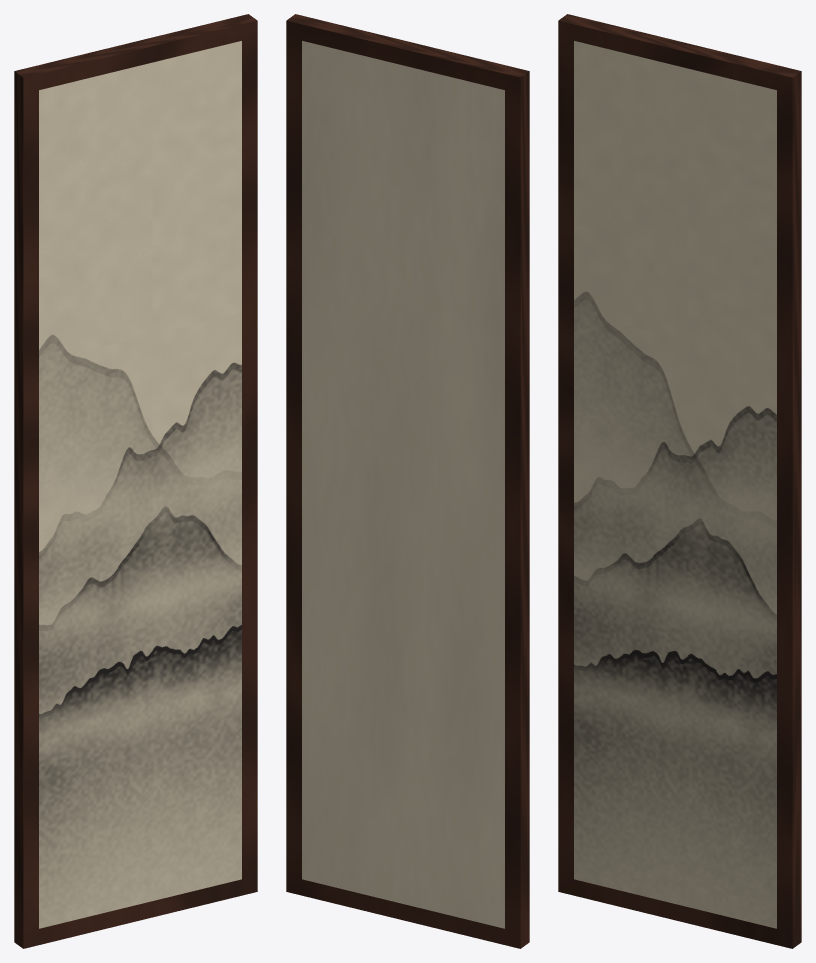
File: z3_biombo_panel_3.obj
The picture shows the model from 3 angles, left to right: view 1: azimuth 30°, elevation 25°; view 2: azimuth 150°, elevation 25°; view 3: azimuth 330°, elevation 25°; orthographic projection.
Visible parts, largest first — view 1: Cube; view 2: Cube; view 3: Cube.
Boxes of the visible parts, x1=… form: Cube: x1=14, y1=14, x2=257, y2=948; Cube: x1=286, y1=14, x2=529, y2=948; Cube: x1=558, y1=14, x2=801, y2=948.
Size of the model in its own units: 0.45 by 1.6 by 0.03.
3 materials, 3 textured.
